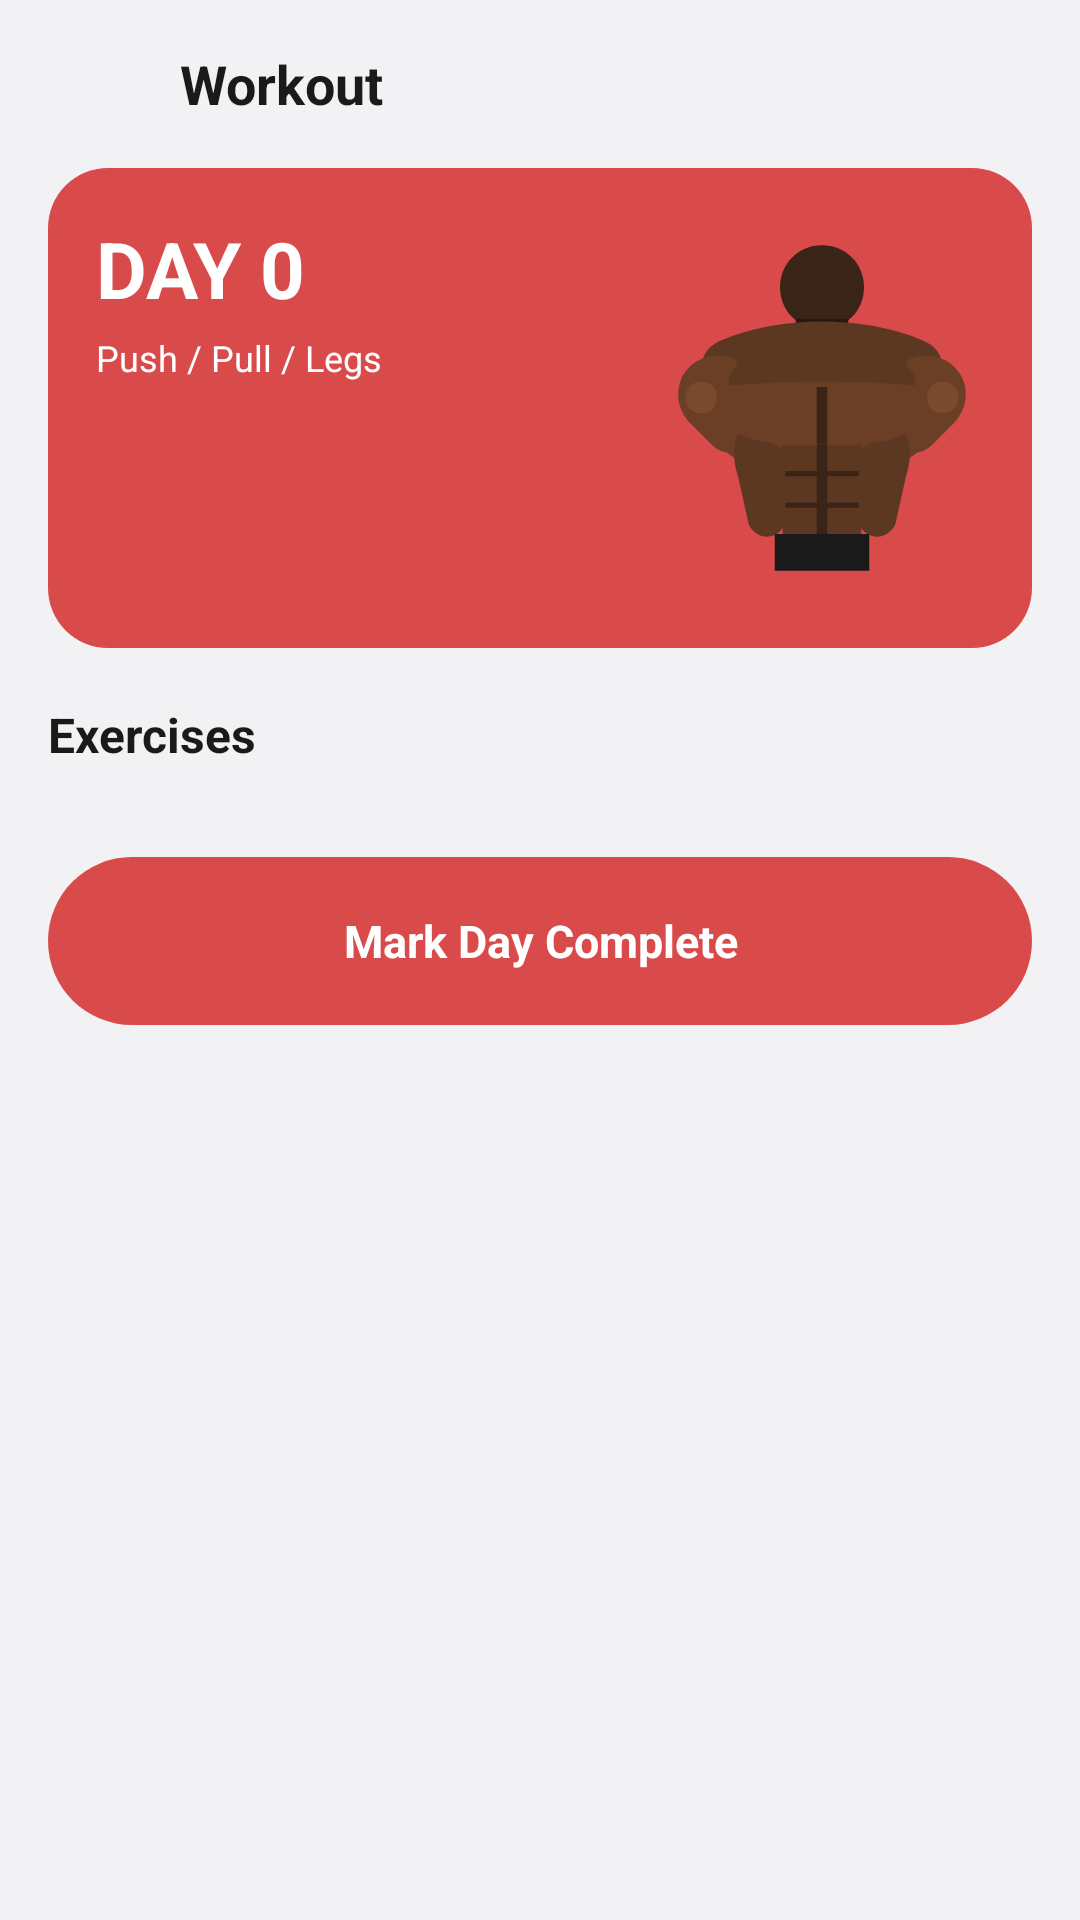

Icon click points for this 1080×1920 phone screenshot, format [x,y]:
bodybuilder: [822,408]
